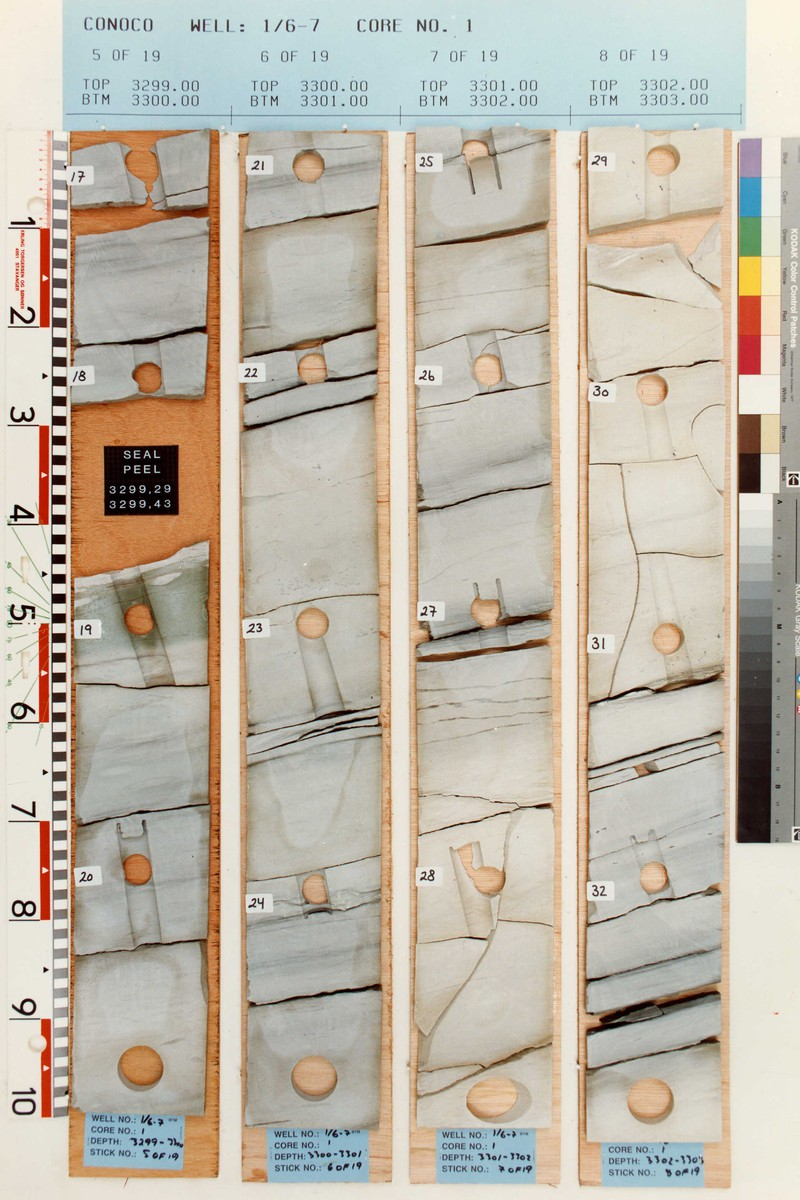core: (583, 126, 728, 1143), (412, 129, 556, 1130), (242, 129, 381, 1131), (72, 538, 212, 1116), (71, 130, 210, 406)
